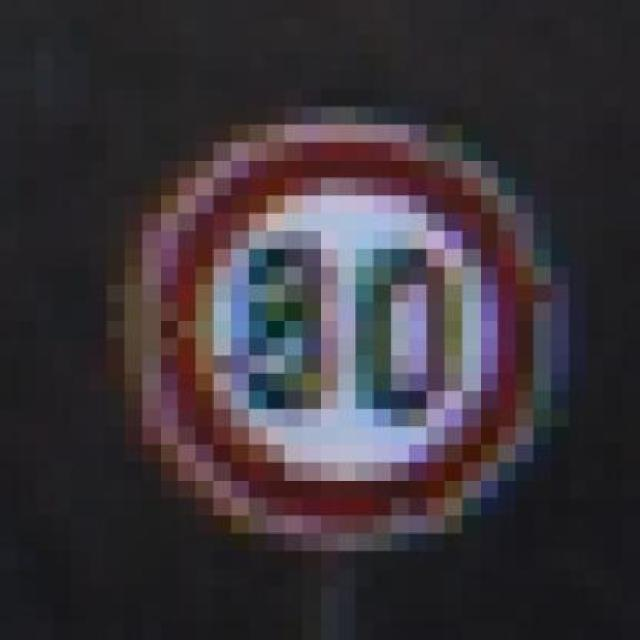forb_speed_over_80: (141, 141, 553, 527)
